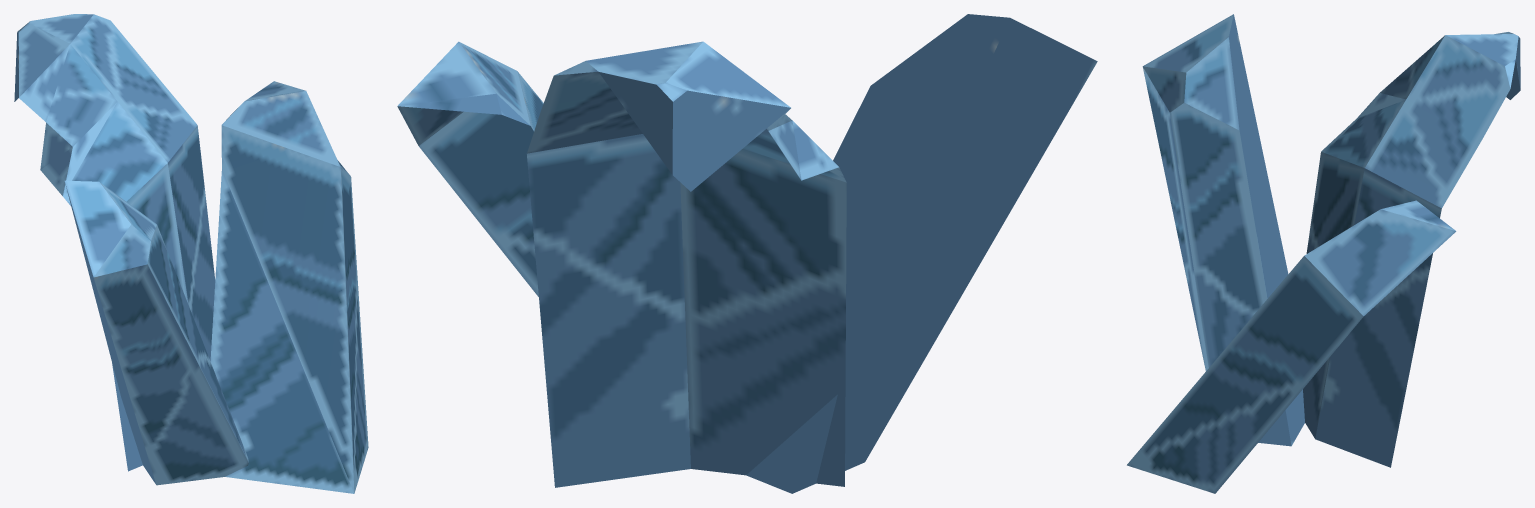
Rendered from S_MineralMedium.fbx.
The picture shows the model from 3 angles, left to right: view 1: azimuth 30°, elevation 25°; view 2: azimuth 150°, elevation 25°; view 3: azimuth 270°, elevation 25°; orthographic projection. The views are drawn at different scales.
Parts seen in each view (by area): view 1: S_MineralMedium; view 2: S_MineralMedium; view 3: S_MineralMedium.
Part boxes in pixels (box(x1,y1,x2,y2)): S_MineralMedium: box(14, 14, 368, 493); S_MineralMedium: box(397, 14, 1097, 493); S_MineralMedium: box(1127, 14, 1520, 493).
Size of the model in its own units: 109 by 104 by 101.
Materials: 1 (1 with a texture image).
